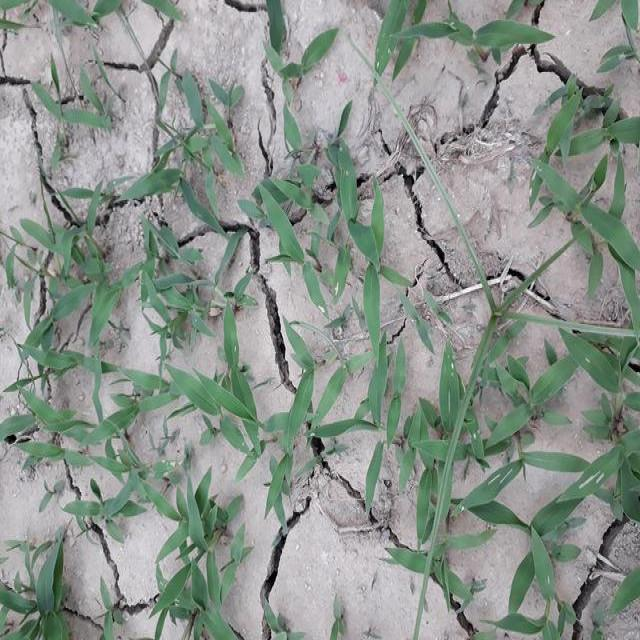weed: (6, 138, 253, 640), (400, 288, 640, 639), (506, 51, 640, 252)
